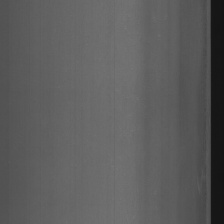silk_spot: (197, 58, 209, 198)
